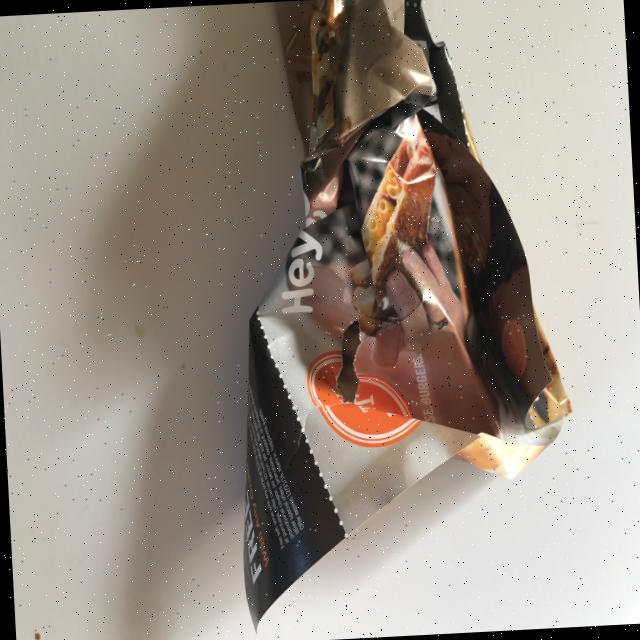paper: (213, 0, 582, 633)
